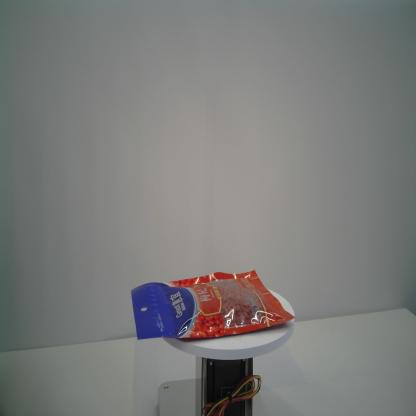Dried Fruit: (130, 269, 297, 340)
